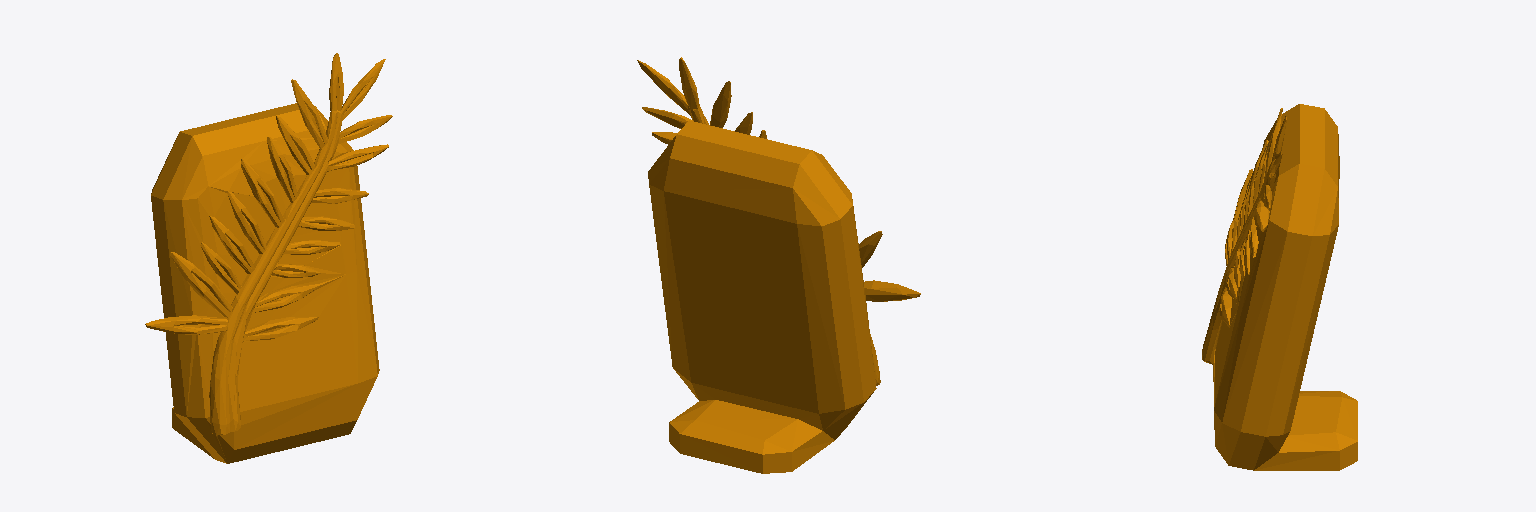
Rendered from golden_palm.obj.
The picture shows the model from 3 angles: view 1: azimuth 30°, elevation 25°; view 2: azimuth 150°, elevation 25°; view 3: azimuth 270°, elevation 25°; orthographic projection.
Visible parts, largest first — view 1: PalmeDor3LOGO_0.001; view 2: PalmeDor3LOGO_0.001; view 3: PalmeDor3LOGO_0.001.
Boxes of the visible parts, box(x1,y1,x2,y2) form: PalmeDor3LOGO_0.001: box(145, 53, 392, 463); PalmeDor3LOGO_0.001: box(637, 57, 920, 473); PalmeDor3LOGO_0.001: box(1202, 104, 1357, 470).
Bounding box in the file's own units: 0.6611 × 0.8686 × 0.3413.